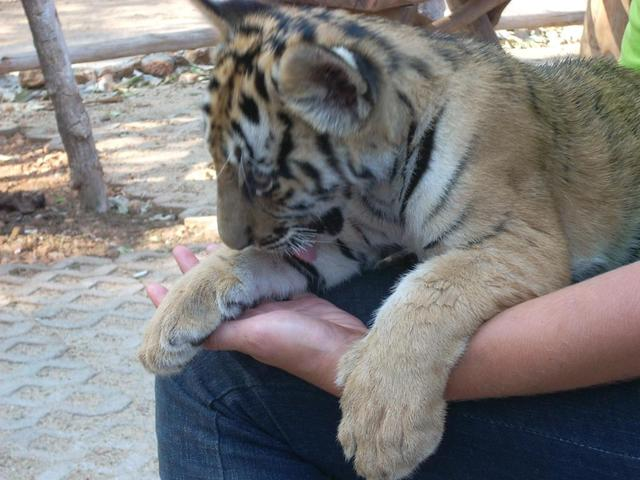tiger: (151, 10, 616, 451)
